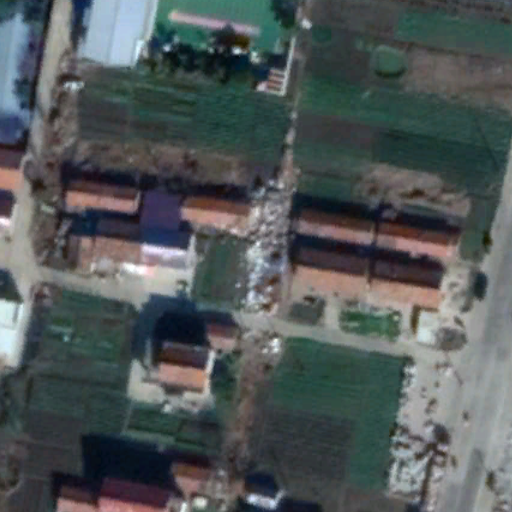msw: (245, 160, 293, 315)
